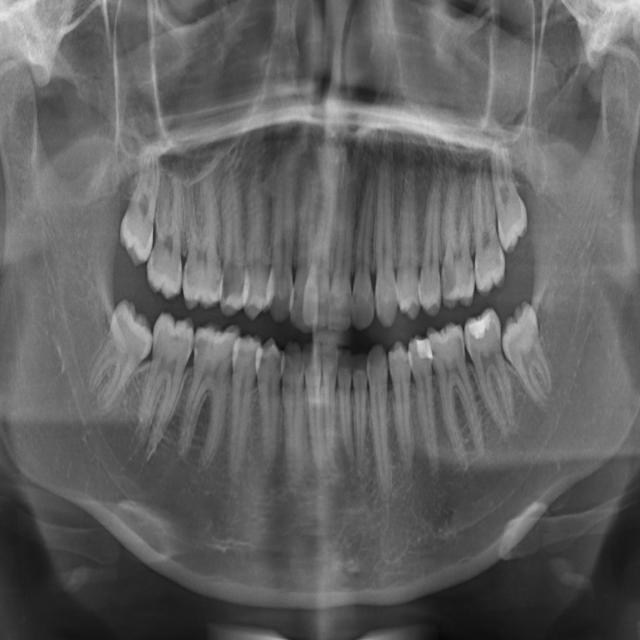CompositeResinRestoration: (468, 305, 492, 348), (416, 336, 433, 364)
DentalCaries: (222, 257, 238, 308), (191, 330, 212, 360), (442, 263, 457, 295), (168, 331, 182, 356), (174, 257, 184, 290), (456, 338, 468, 363), (231, 349, 243, 372), (238, 278, 250, 300), (255, 350, 268, 370), (212, 270, 222, 295), (467, 255, 476, 282), (183, 257, 190, 290), (276, 356, 285, 378), (431, 346, 440, 366), (224, 349, 230, 374)
ImpactedTooth: (504, 298, 549, 412), (93, 298, 152, 374), (492, 145, 530, 253)
